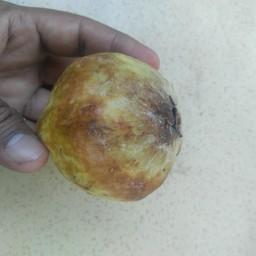Bad_guava: (32, 50, 182, 203)
